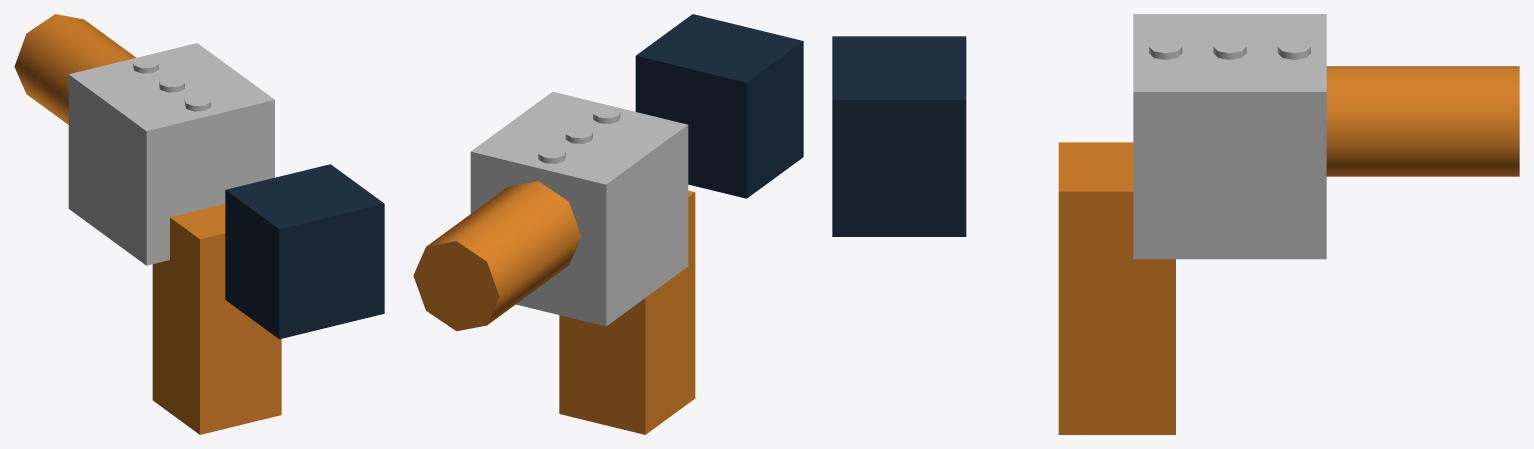
The model's file is LegoPistol.glb.
3 renders of one model, left to right at view 1: azimuth 30°, elevation 25°; view 2: azimuth 150°, elevation 25°; view 3: azimuth 270°, elevation 25°, orthographic. The views are drawn at different scales.
Visible parts, largest first — view 1: LegoPistol; view 2: LegoPistol; view 3: LegoPistol.
Boxes of the visible parts, x1,y1,x2,y2 form: LegoPistol: (14, 14, 384, 434); LegoPistol: (413, 14, 803, 434); LegoPistol: (832, 14, 1519, 434).
Size of the model in its own units: 0.11 by 0.2394 by 0.41.
